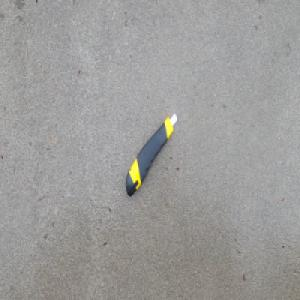Cutter: (124, 112, 177, 198)
